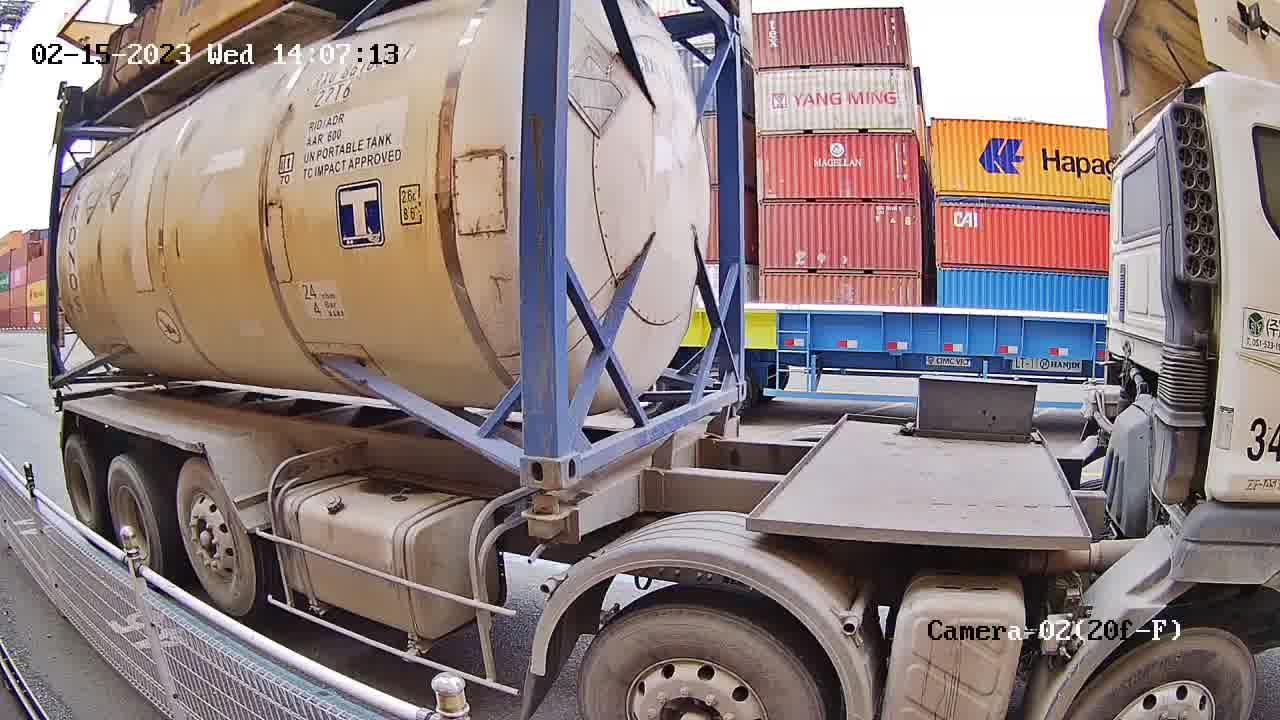Chassis: (566, 411, 743, 537)
Cone: (527, 493, 568, 552)
Hole_L: (557, 398, 616, 488)
Hole_R: (491, 415, 560, 488), (715, 358, 749, 408)
Tire: (577, 612, 822, 719), (1066, 630, 1261, 714), (179, 467, 255, 613), (110, 461, 158, 564), (63, 438, 99, 527)
